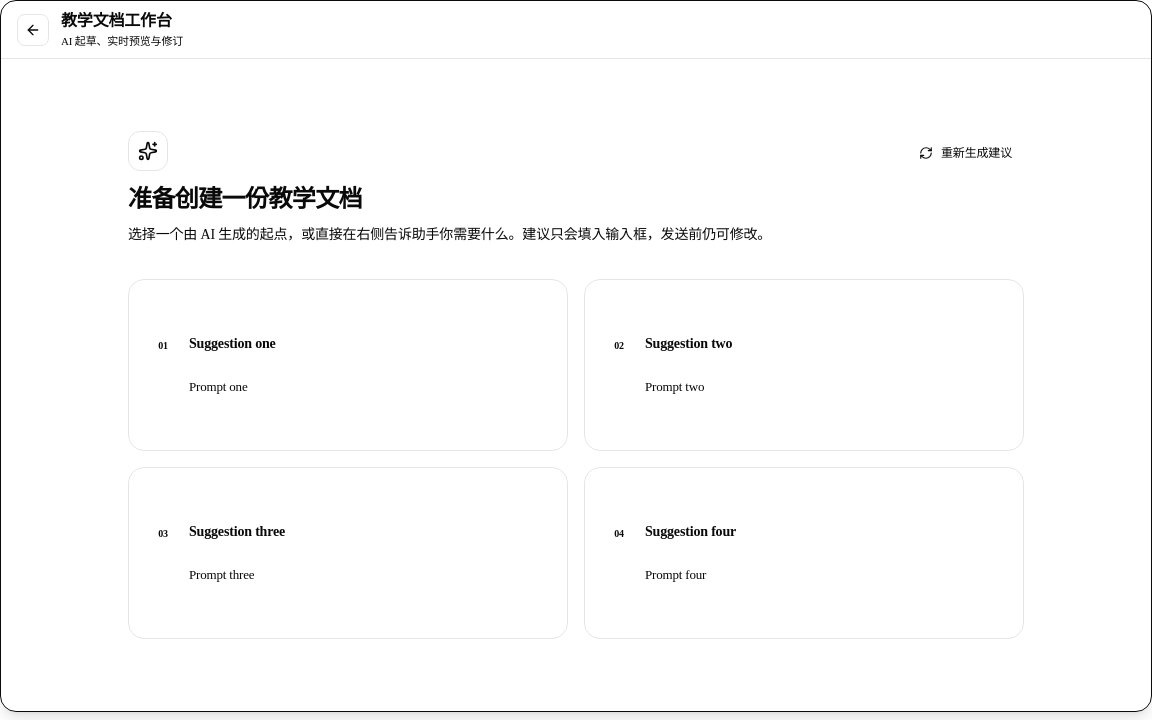
Test: keeps current suggestions visible when a background refresh fails
The image size is (1152, 720).
Expected: the text "Suggestion one" is shown, [189, 332, 276, 354]
Step 1. Click the button "重新生成建议" → (966, 153), box [907, 135, 1024, 171]
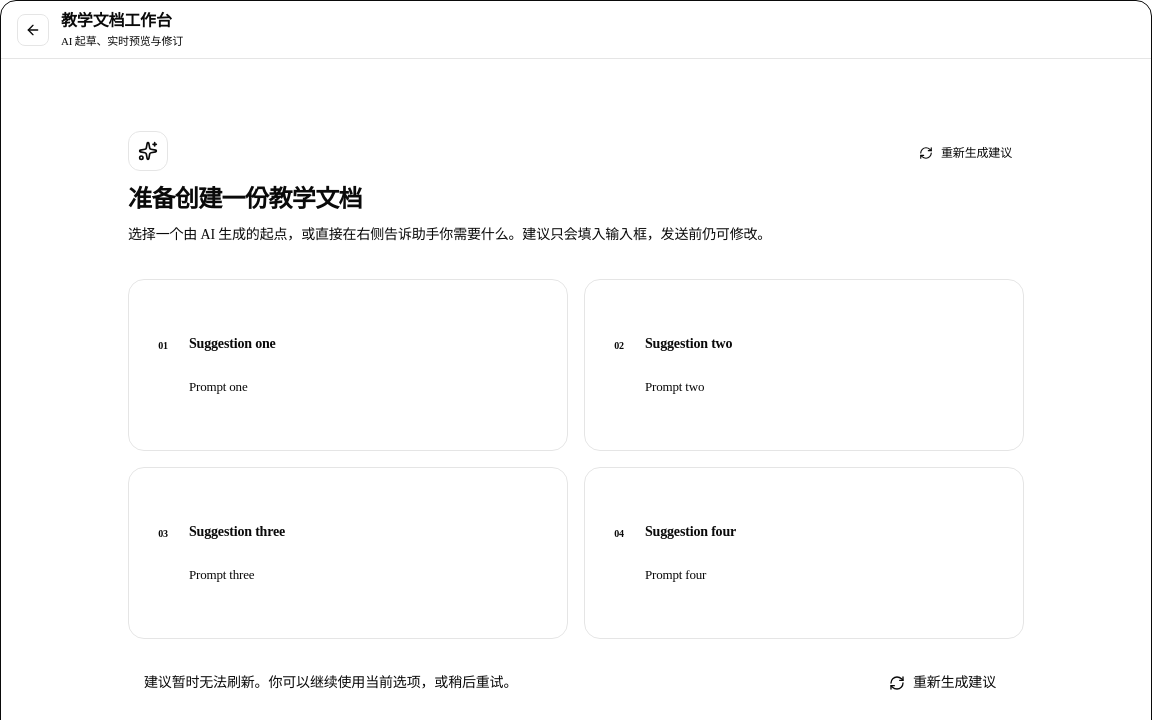
Expected: the text "Suggestion one" is shown, [189, 332, 276, 354]
Expected: the message shows "建议暂时无法刷新", [144, 675, 517, 690]
